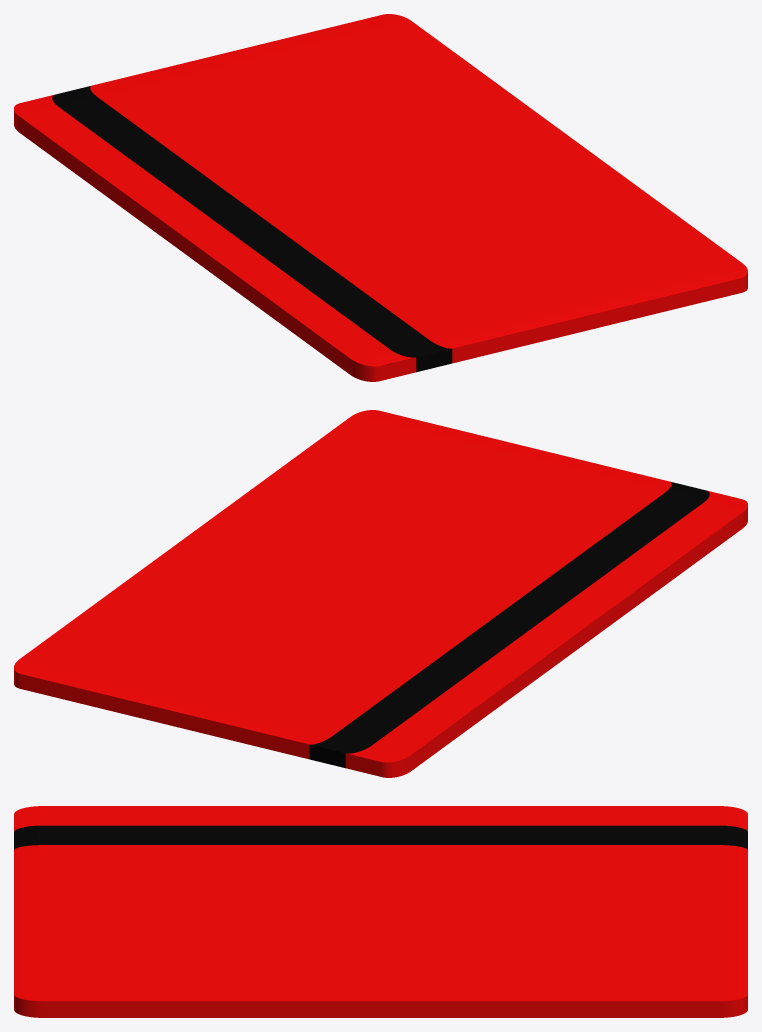
The model's file is security_card.glb.
The picture shows the model from 3 angles, top to bottom: view 1: azimuth 30°, elevation 25°; view 2: azimuth 150°, elevation 25°; view 3: azimuth 270°, elevation 25°; orthographic projection. The views are drawn at different scales.
Visible parts, largest first — view 1: Cube; view 2: Cube; view 3: Cube.
Part boxes in pixels (x1,y1,x2,y2): Cube: (14,14,747,381); Cube: (14,410,747,777); Cube: (14,806,747,1017).
Bounding box in the file's own units: 2 × 0.0795 × 3.18.
